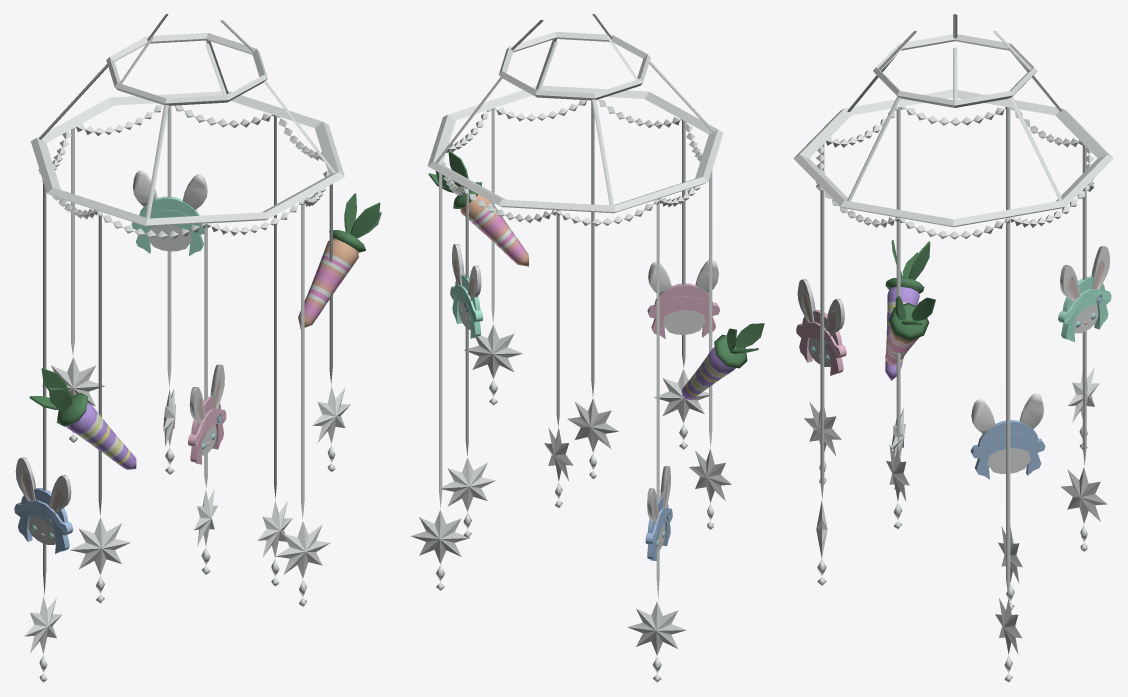
3 renders of one model, left to right at view 1: azimuth 30°, elevation 25°; view 2: azimuth 150°, elevation 25°; view 3: azimuth 270°, elevation 25°, orthographic. The views are drawn at different scales.
Visible parts, largest first — view 1: G:\FFXIV-MapTools\exports\u5f1\bg\ex4\04_uvs_u5\fld\u5f1\bgp (×6); view 2: G:\FFXIV-MapTools\exports\u5f1\bg\ex4\04_uvs_u5\fld\u5f1\bgp (×6); view 3: G:\FFXIV-MapTools\exports\u5f1\bg\ex4\04_uvs_u5\fld\u5f1\bgp (×6).
Boxes of the visible parts, x1,y1,x2,y2 form: G:\FFXIV-MapTools\exports\u5f1\bg\ex4\04_uvs_u5\fld\u5f1\bgp (×6): (14,14,381,682); G:\FFXIV-MapTools\exports\u5f1\bg\ex4\04_uvs_u5\fld\u5f1\bgp (×6): (410,14,764,682); G:\FFXIV-MapTools\exports\u5f1\bg\ex4\04_uvs_u5\fld\u5f1\bgp (×6): (793,14,1113,682).
Size of the model in its own units: 3.02 by 5.3 by 2.42.
